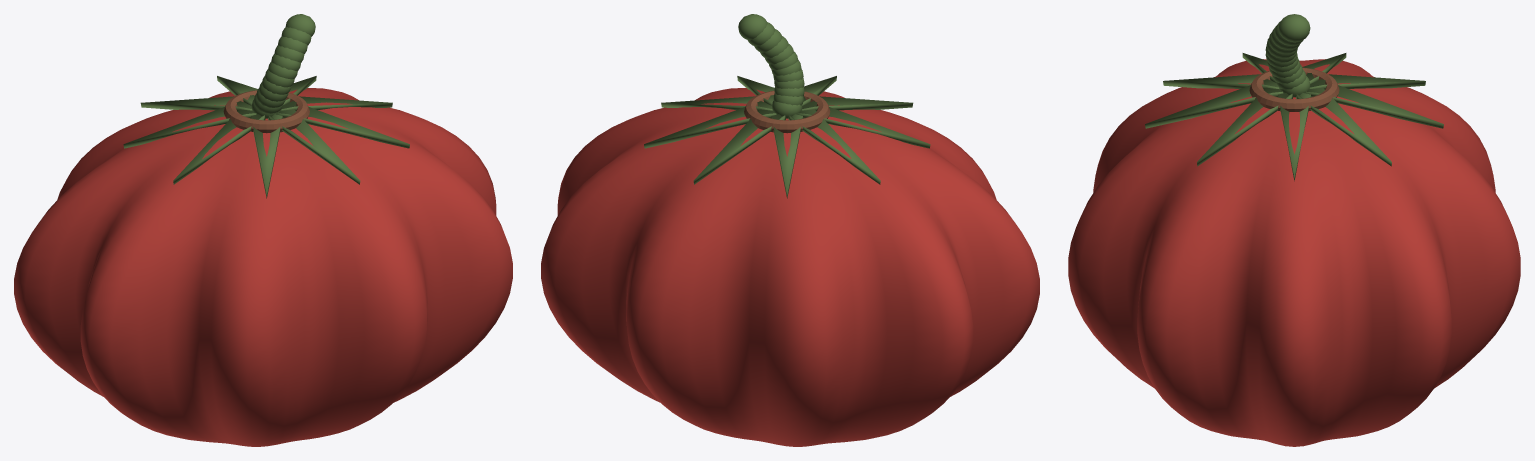
The model's file is giant.glb.
3 views of the same model, side by side, from view 1: azimuth 30°, elevation 25°; view 2: azimuth 150°, elevation 25°; view 3: azimuth 270°, elevation 25° (orthographic). The views are drawn at different scales.
Visible parts, largest first — view 1: Giant Giant ribbed oxblood skin, Giant Heavy sage crown, Giant Crown scar; view 2: Giant Giant ribbed oxblood skin, Giant Heavy sage crown, Giant Crown scar; view 3: Giant Giant ribbed oxblood skin, Giant Heavy sage crown, Giant Crown scar.
Boxes of the visible parts, bbox=[...] form: Giant Giant ribbed oxblood skin: bbox=[14, 88, 512, 446]; Giant Heavy sage crown: bbox=[123, 14, 409, 198]; Giant Crown scar: bbox=[223, 90, 309, 133]; Giant Giant ribbed oxblood skin: bbox=[541, 88, 1039, 446]; Giant Heavy sage crown: bbox=[644, 14, 930, 198]; Giant Crown scar: bbox=[744, 90, 830, 133]; Giant Giant ribbed oxblood skin: bbox=[1068, 59, 1520, 446]; Giant Heavy sage crown: bbox=[1145, 14, 1443, 181]; Giant Crown scar: bbox=[1249, 67, 1339, 111].
Size of the model in its own units: 1.84 by 1.59 by 1.56.
